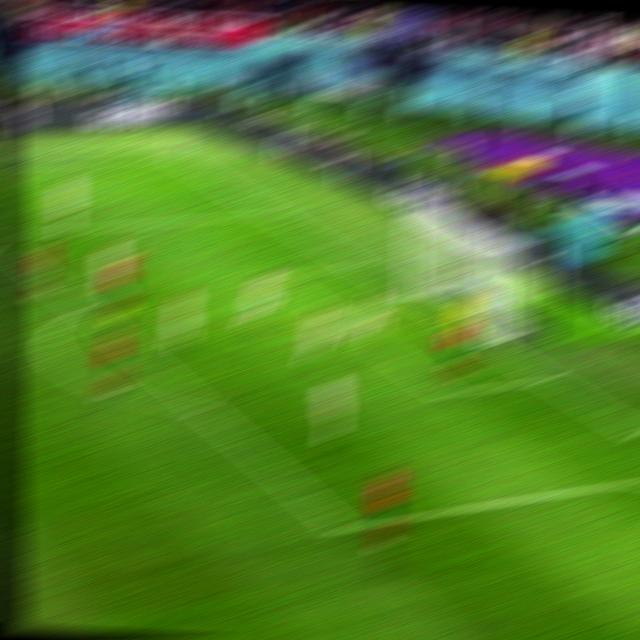bigarea_bottom_inner: (330, 519, 354, 537)
bigarea_top_outter: (256, 210, 282, 217)
bottom_arc_area_intersection: (191, 403, 214, 415)
corner: (161, 157, 187, 160)
smallarea_bottom_inner: (433, 386, 458, 402)
smallarea_bottom_outter: (534, 372, 559, 386)
smallarea_top_inner: (263, 273, 282, 279)
smallarea_top_outter: (347, 260, 369, 270)
top_arc_area_intersection: (70, 301, 92, 313)
